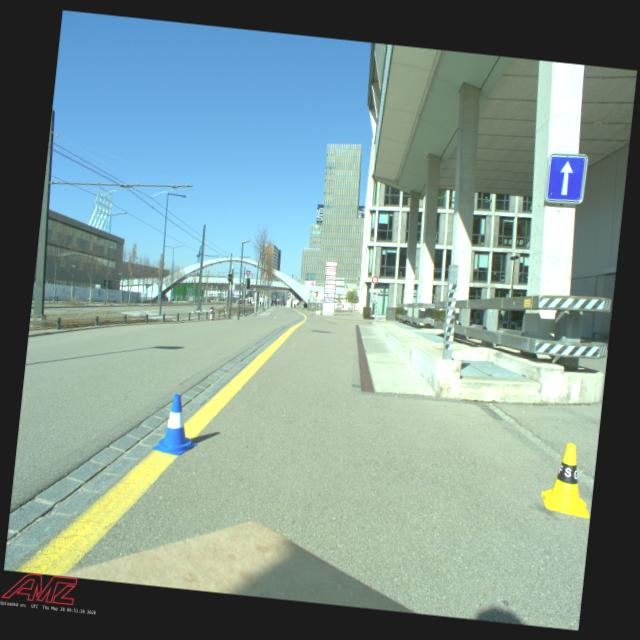blue_cone: (152, 392, 202, 457)
yellow_cone: (538, 441, 596, 518)
